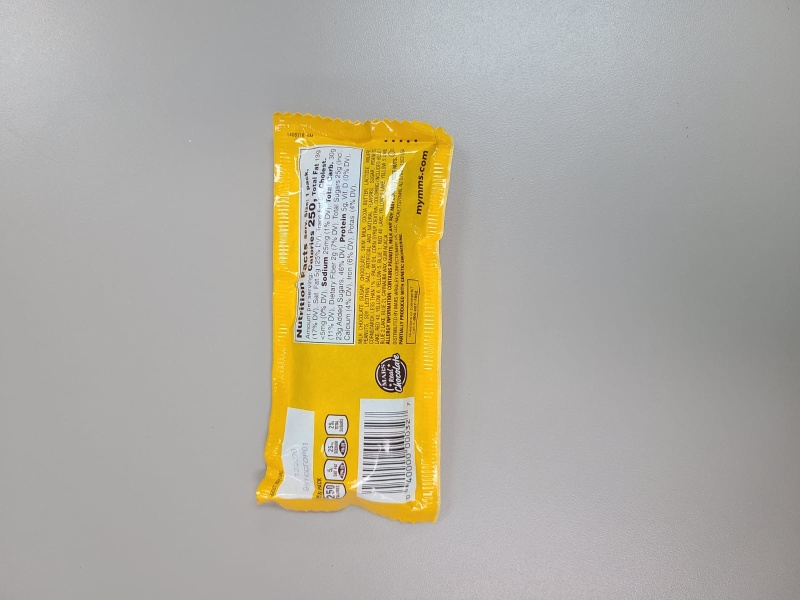m&m: (256, 111, 458, 521)
